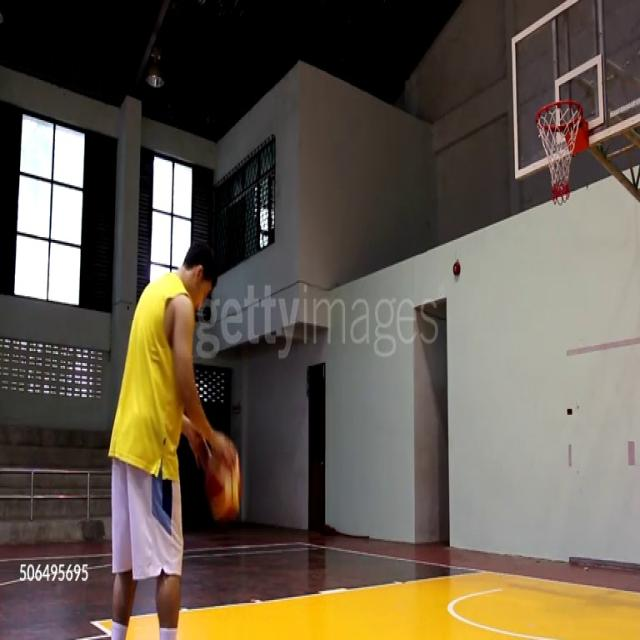ball: (204, 451, 242, 522)
